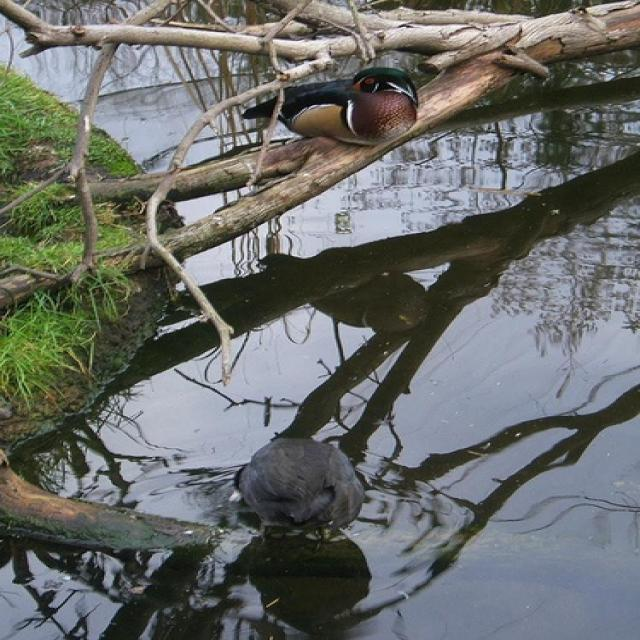bird: (240, 66, 420, 150), (237, 436, 367, 546)
